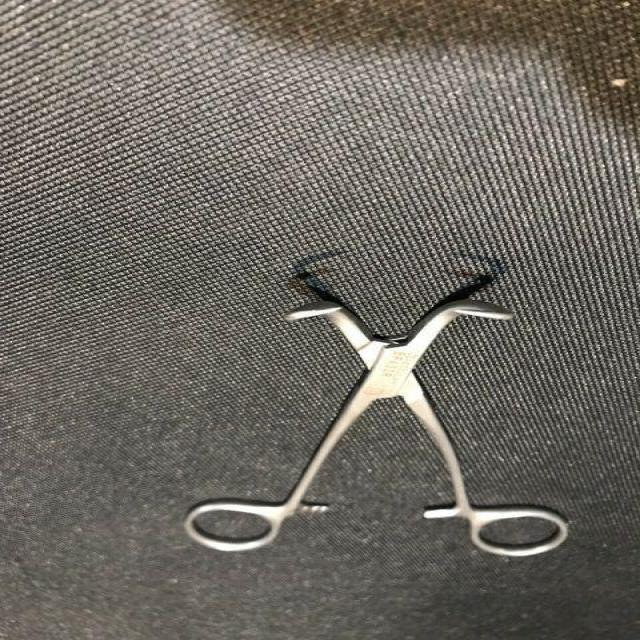Towel_clip: (178, 295, 570, 560)
